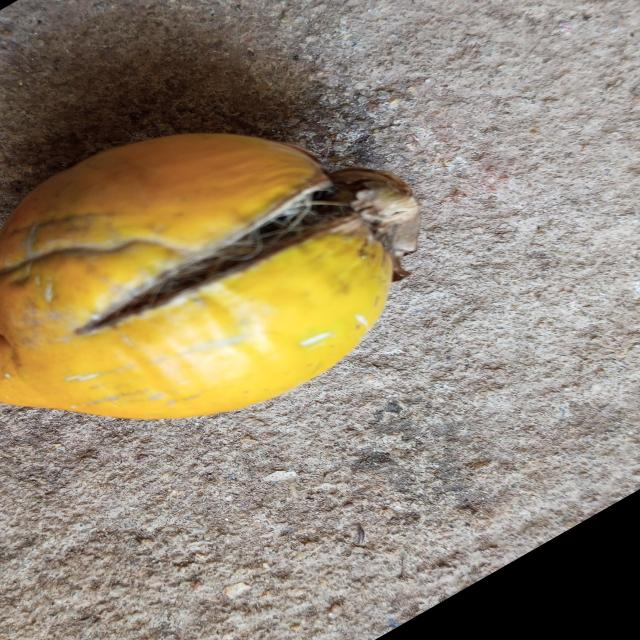damaged: (0, 134, 420, 419)
